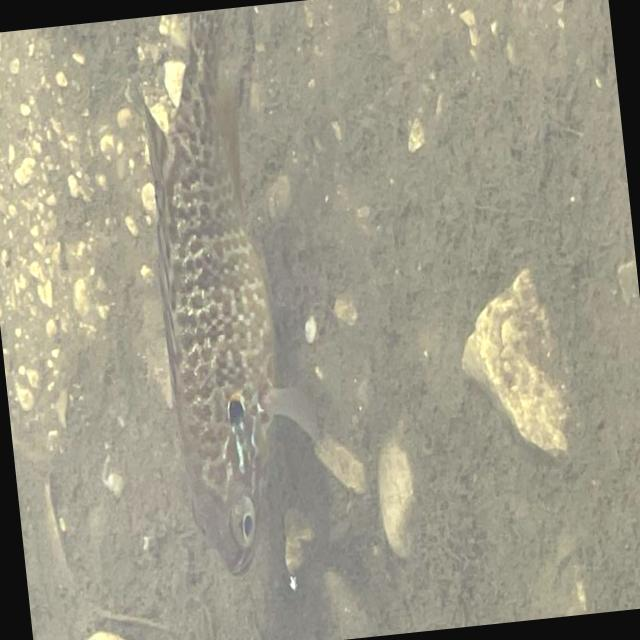Gunes Levregi: (116, 4, 320, 586)
